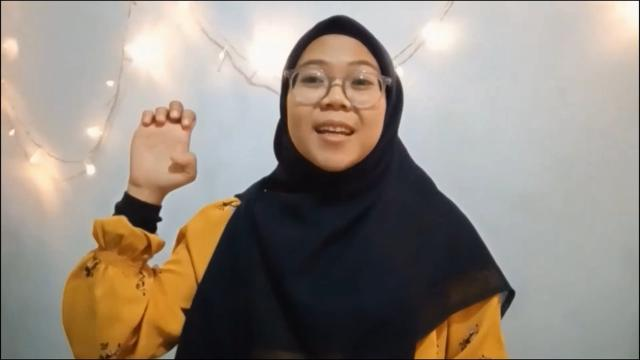E: (130, 100, 198, 190)
